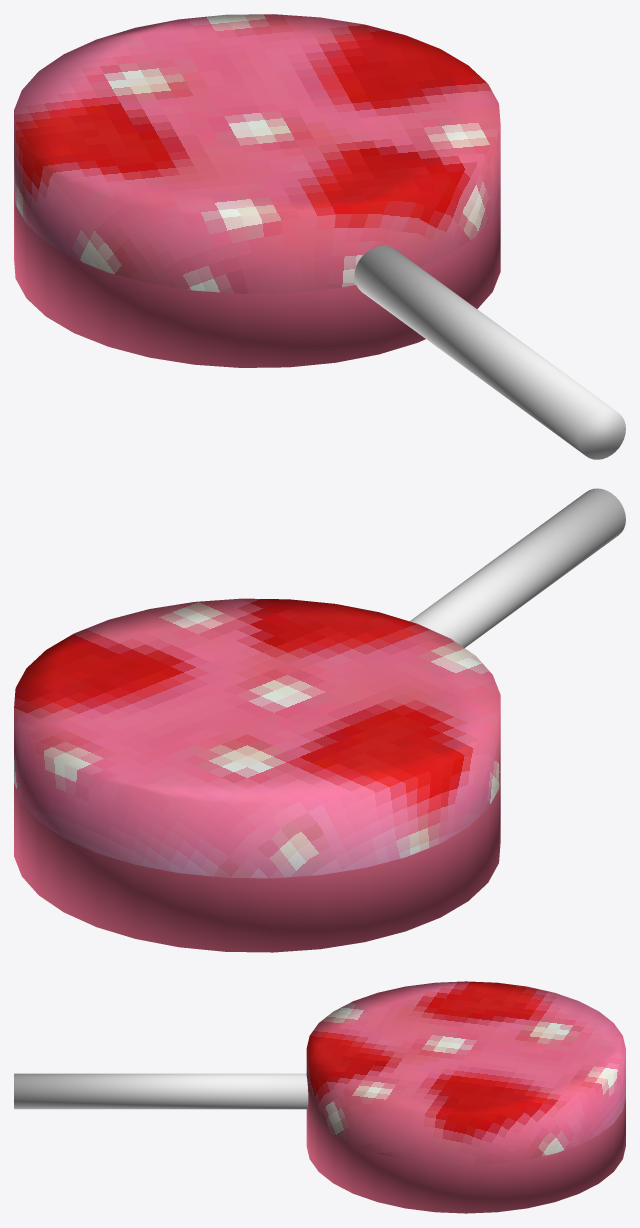
The model's file is AL_PaletitaCirculo.fbx.
3 views of the same model, one above another, from view 1: azimuth 30°, elevation 25°; view 2: azimuth 150°, elevation 25°; view 3: azimuth 270°, elevation 25° (orthographic). The views are drawn at different scales.
Visible parts, largest first — view 1: Circle; view 2: Circle; view 3: Circle.
Part boxes in pixels (bbox=[...]): Circle: bbox=[14, 14, 625, 459]; Circle: bbox=[14, 488, 625, 952]; Circle: bbox=[14, 981, 625, 1213].
Size of the model in its own units: 0.245 by 0.0433 by 0.1279.
